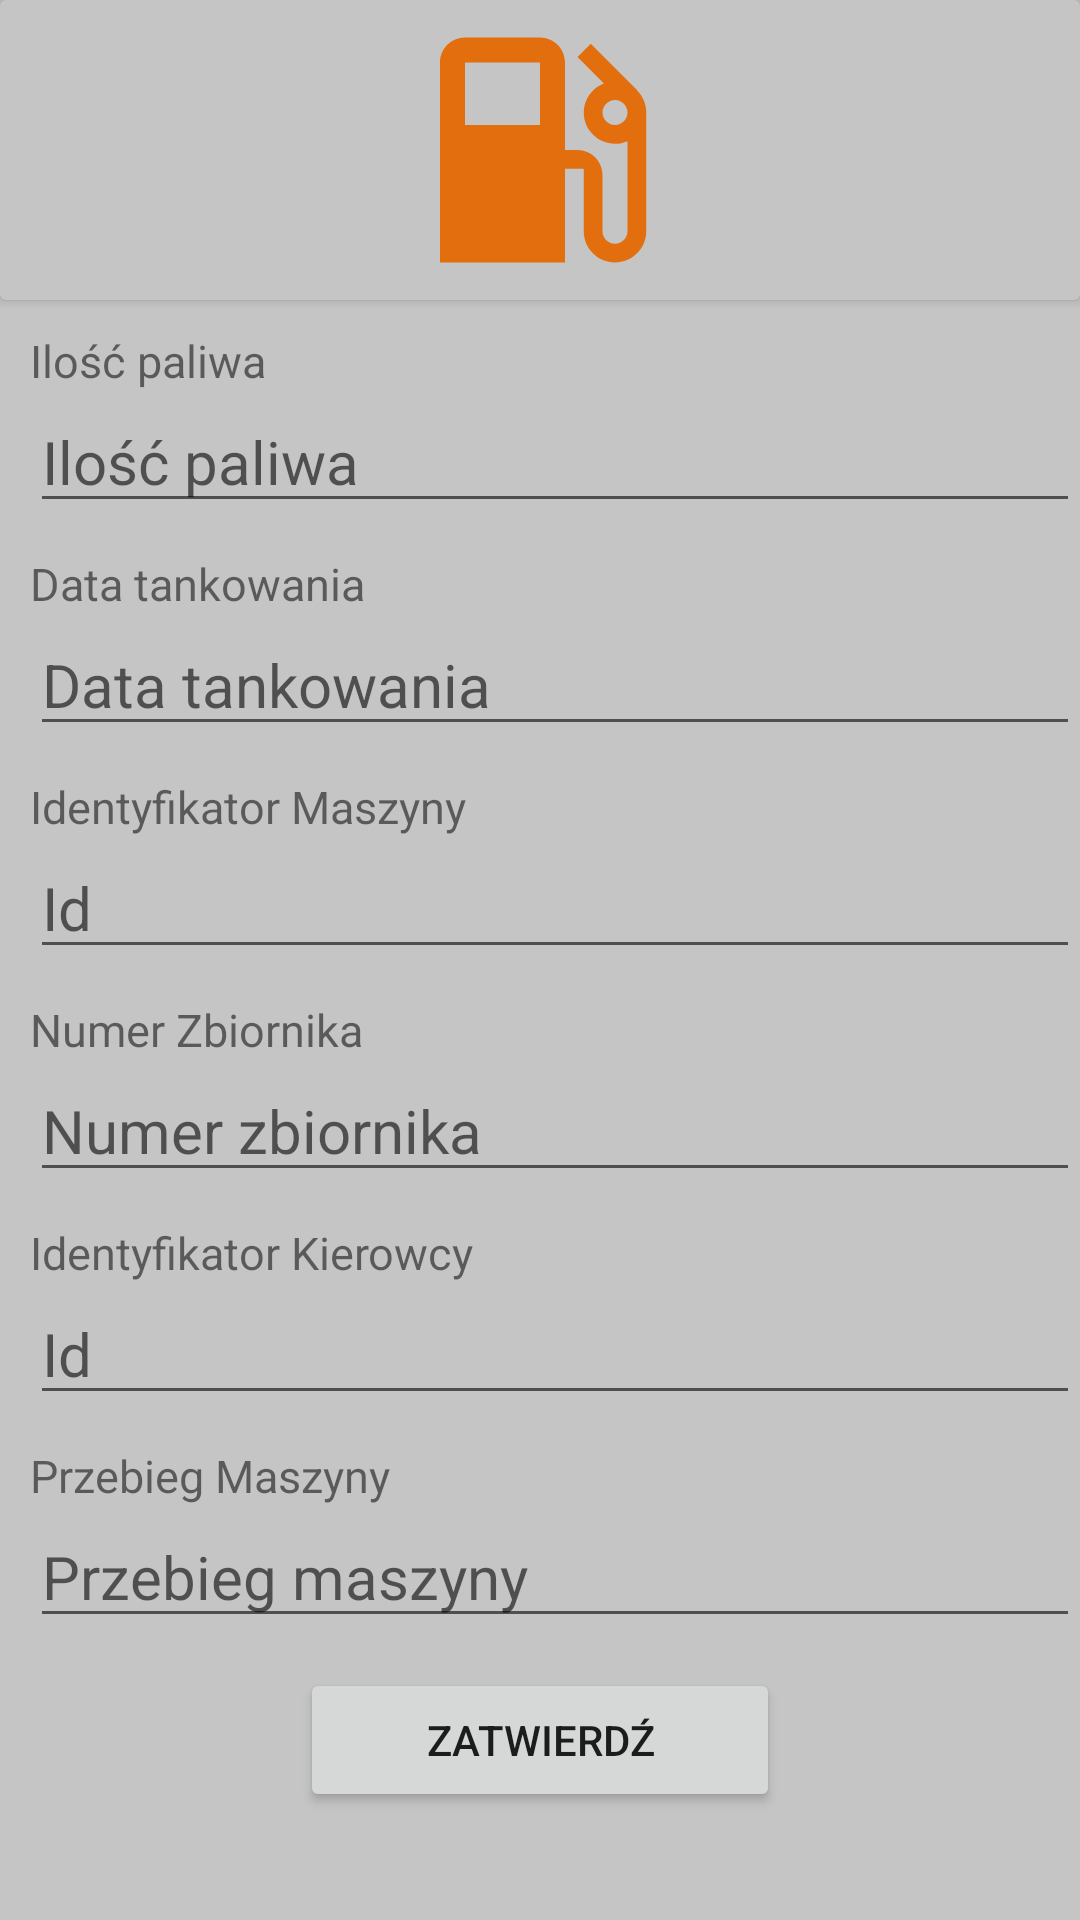

Icons on this 1080px×1920px Android screen, each with its box as [x1,y1,x2,y2]:
tankowanie: [440,37,647,263]
